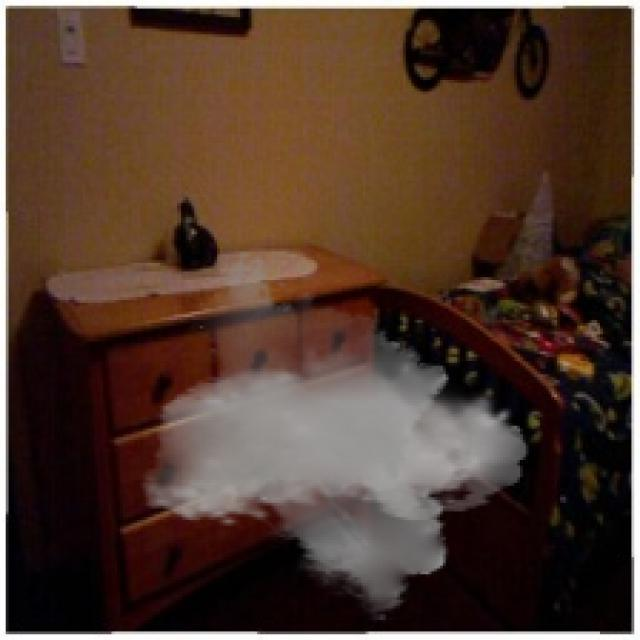Smoke: (140, 248, 529, 623)
